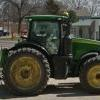Tractor: (5, 11, 100, 80)
